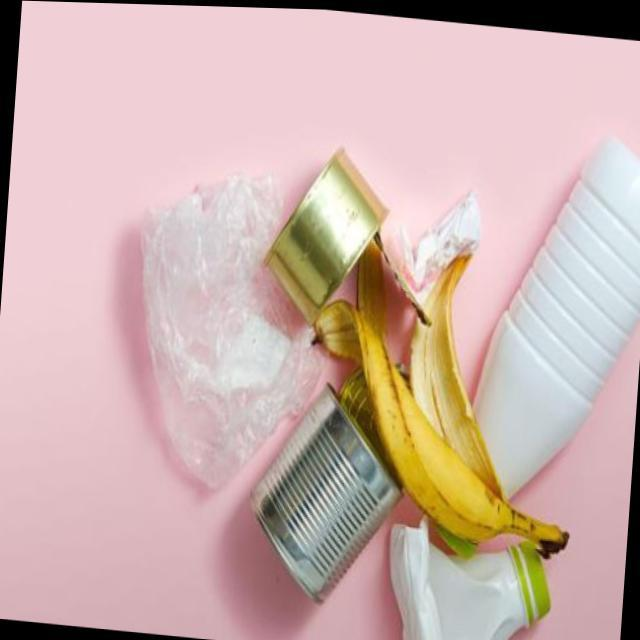clothes: (240, 376, 393, 615), (258, 115, 394, 323)
fabric: (347, 227, 518, 577)
food: (392, 156, 491, 292)
leaf: (472, 109, 640, 503), (374, 538, 561, 640)
metal: (112, 152, 295, 502)
